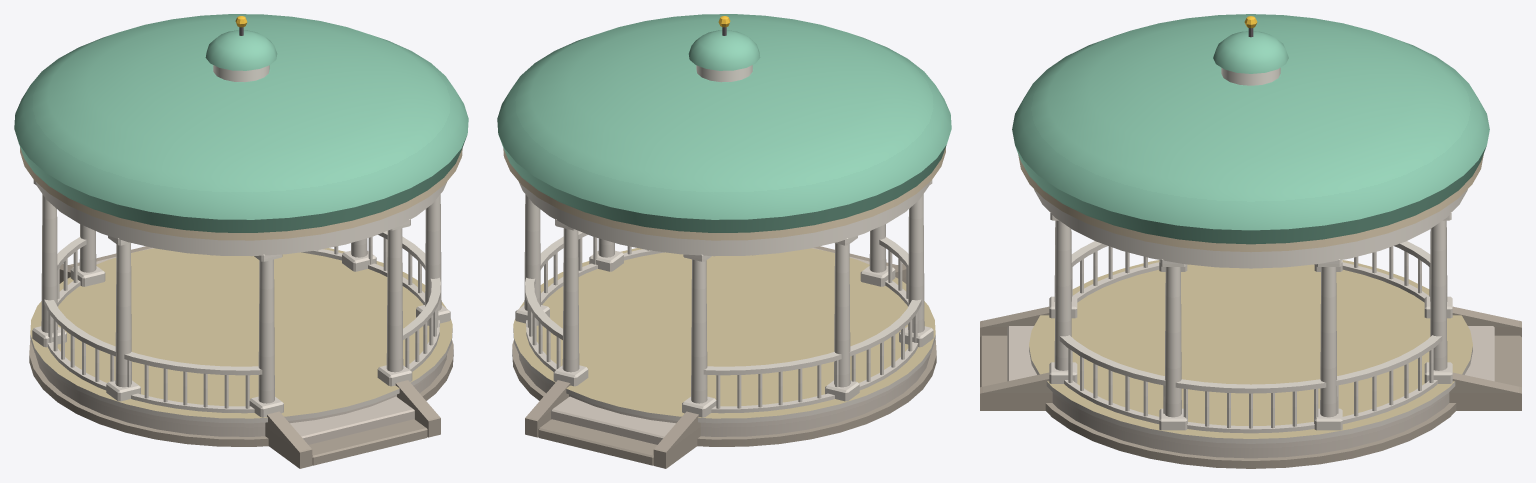
The model's file is bandstand_kit.glb.
3 renders of one model, left to right at view 1: azimuth 30°, elevation 25°; view 2: azimuth 150°, elevation 25°; view 3: azimuth 270°, elevation 25°, orthographic. The views are drawn at different scales.
Visible parts, largest first — view 1: bandstand_kit; view 2: bandstand_kit; view 3: bandstand_kit.
Boxes of the visible parts, x1,y1,x2,y2 form: bandstand_kit: [14, 14, 468, 468]; bandstand_kit: [497, 14, 951, 468]; bandstand_kit: [980, 14, 1521, 468].
Bounding box in the file's own units: 8.82 × 7.3 × 10.
1 material, 1 textured.
